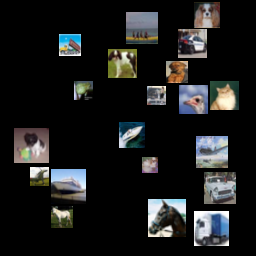airplane: (200, 146, 238, 184), (26, 114, 55, 143)
automobile: (68, 211, 90, 233)
bird: (131, 6, 163, 38), (8, 47, 27, 66), (191, 8, 207, 24)
cat: (132, 211, 158, 237)
deer: (202, 87, 240, 125), (61, 160, 96, 195)
dog: (125, 40, 154, 69), (75, 38, 91, 54)
frog: (191, 216, 220, 245), (147, 78, 173, 104), (33, 16, 59, 42), (16, 88, 38, 110), (168, 126, 187, 145), (129, 129, 148, 148)
ship: (26, 201, 64, 239)
